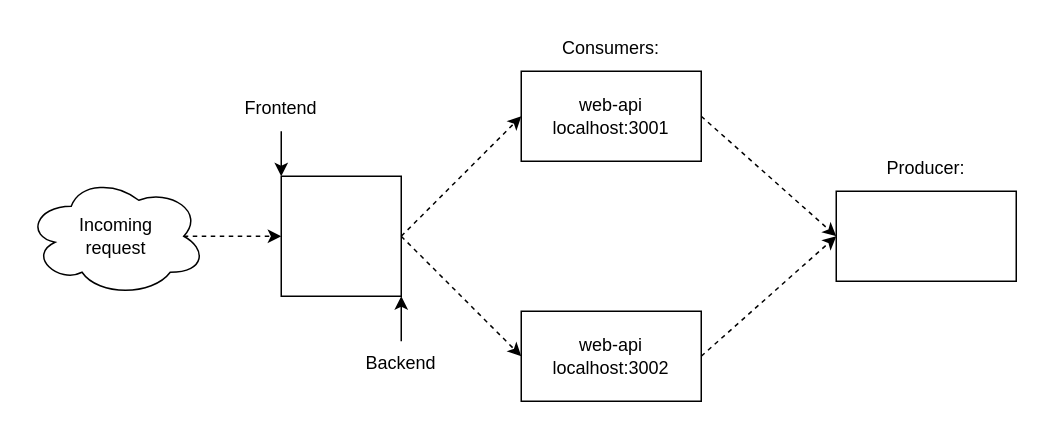
Some shapes in this 1043 by 428 pixel diagram are drawn without their labels. The shapes that lost their labels are listed below. From the top down, each one's centre as x and y in pixels, then its label:
At (x=340, y=235): "HAProxy".
At (x=925, y=235): "recipe-api localhost:4000".
